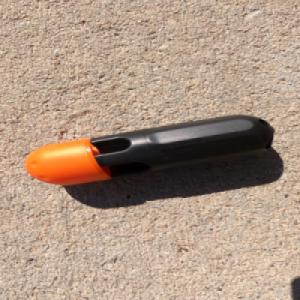PlasticPart: (24, 114, 275, 186)
